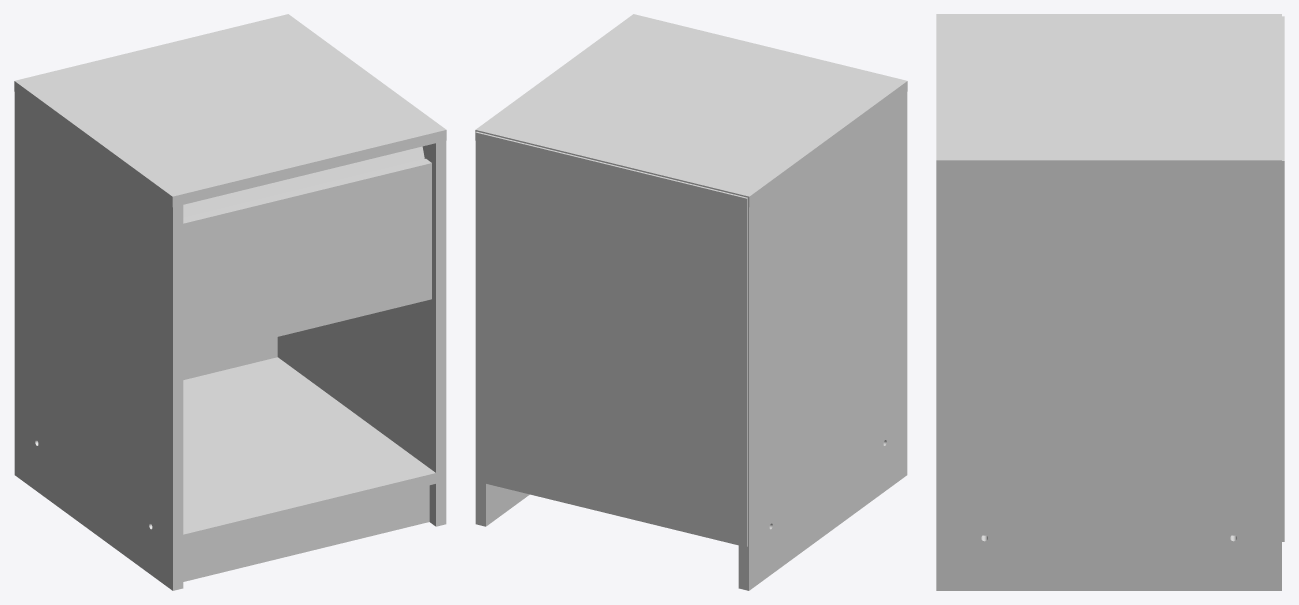
Rendered from A008285_v1_blanco.glb.
The picture shows the model from 3 angles, left to right: view 1: azimuth 30°, elevation 25°; view 2: azimuth 150°, elevation 25°; view 3: azimuth 270°, elevation 25°; orthographic projection. The views are drawn at different scales.
Visible parts, largest first — view 1: Simetruc801008285-COSTADOSCOST, A008285-TAPASXXXTAPA, A008285-FRENTESXCAJO, A008285-PISOSXXXPISO, A008285-COSTADOSCOST, A008285-ZOCALOSXZOCA, A008285-FAJASXXXFREN, A008285-FONDOSXXMUEB; view 2: A008285-FONDOSXXMUEB, Simetruc801008285-COSTADOSCOST, A008285-TAPASXXXTAPA, A008285-COSTADOSCOST; view 3: A008285-COSTADOSCOST, A008285-TAPASXXXTAPA, A008285-FONDOSXXMUEB.
Part boxes in pixels (box(x1,y1,x2,y2)): Simetruc801008285-COSTADOSCOST: box(14, 92, 183, 590); A008285-TAPASXXXTAPA: box(14, 14, 446, 207); A008285-FRENTESXCAJO: box(183, 158, 431, 359); A008285-PISOSXXXPISO: box(183, 357, 435, 545); A008285-COSTADOSCOST: box(277, 141, 446, 526); A008285-ZOCALOSXZOCA: box(183, 485, 429, 581); A008285-FAJASXXXFREN: box(183, 146, 424, 217); A008285-FONDOSXXMUEB: box(183, 337, 277, 379); A008285-FONDOSXXMUEB: box(475, 131, 747, 546); Simetruc801008285-COSTADOSCOST: box(738, 92, 907, 590); A008285-TAPASXXXTAPA: box(475, 14, 907, 207); A008285-COSTADOSCOST: box(475, 481, 529, 526); A008285-COSTADOSCOST: box(936, 172, 1281, 590); A008285-TAPASXXXTAPA: box(936, 14, 1281, 171); A008285-FONDOSXXMUEB: box(1282, 16, 1284, 541).
Bounding box in the file's own units: 0.4 × 0.55 × 0.403.
1 material, 1 textured.
